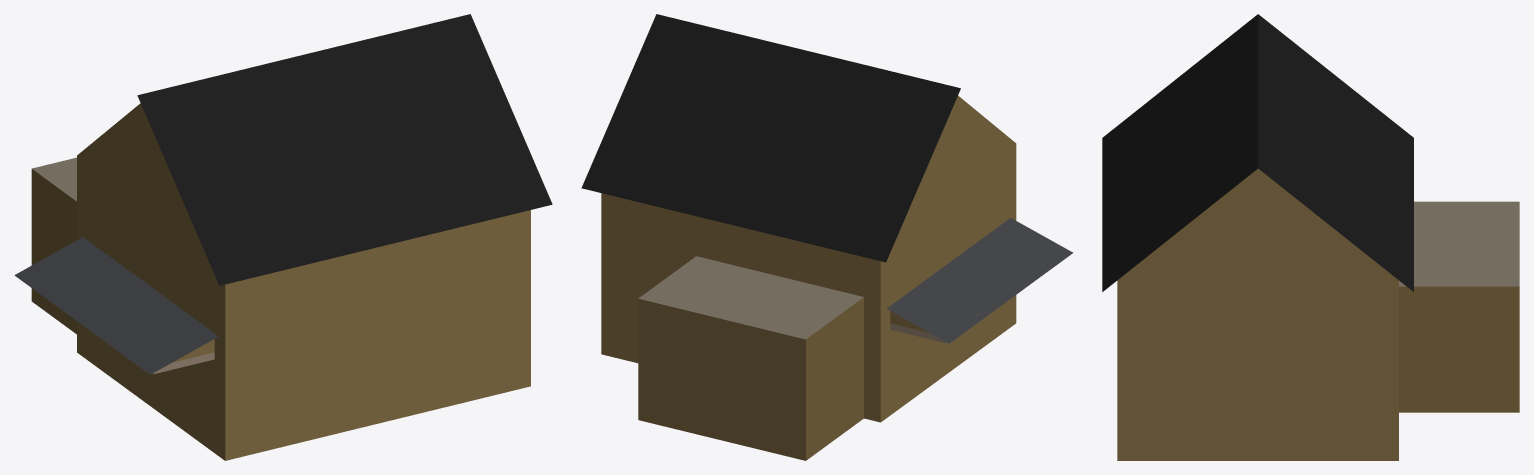
File: mh-company-house.towns-v1.lod2.glb
The picture shows the model from 3 angles, left to right: view 1: azimuth 30°, elevation 25°; view 2: azimuth 150°, elevation 25°; view 3: azimuth 270°, elevation 25°; orthographic projection. The views are drawn at different scales.
Visible parts, largest first — view 1: mh-company-house; view 2: mh-company-house; view 3: mh-company-house.
Part boxes in pixels (box(x1,y1,x2,y2)): mh-company-house: box(14, 14, 552, 460); mh-company-house: box(581, 14, 1073, 460); mh-company-house: box(1102, 14, 1519, 460).
Bounding box in the file's own units: 12.7 × 9.83 × 12.45.
